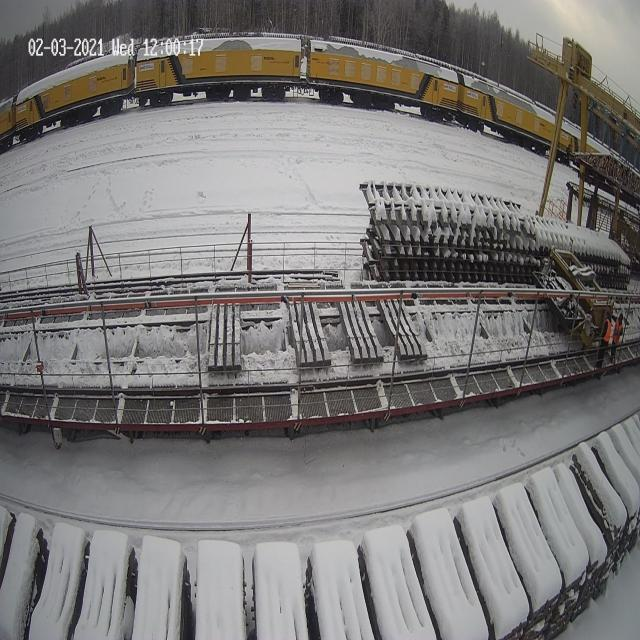Person: (595, 305, 612, 379), (614, 309, 628, 358)
